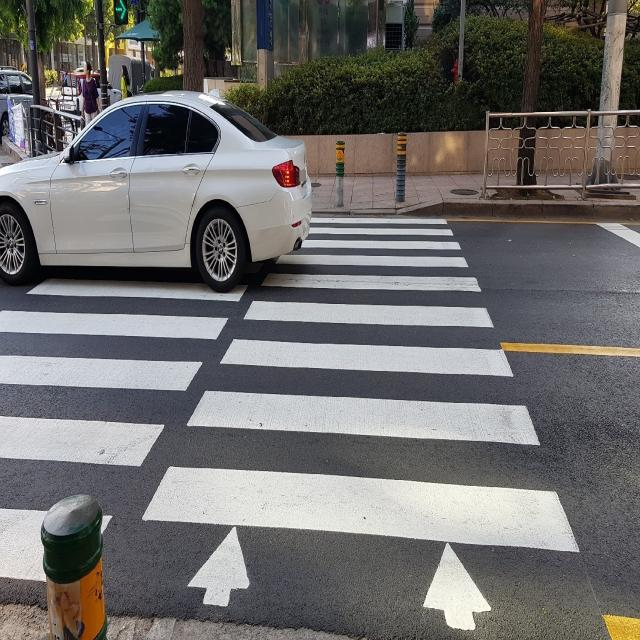횡단보도: (0, 213, 582, 634)
